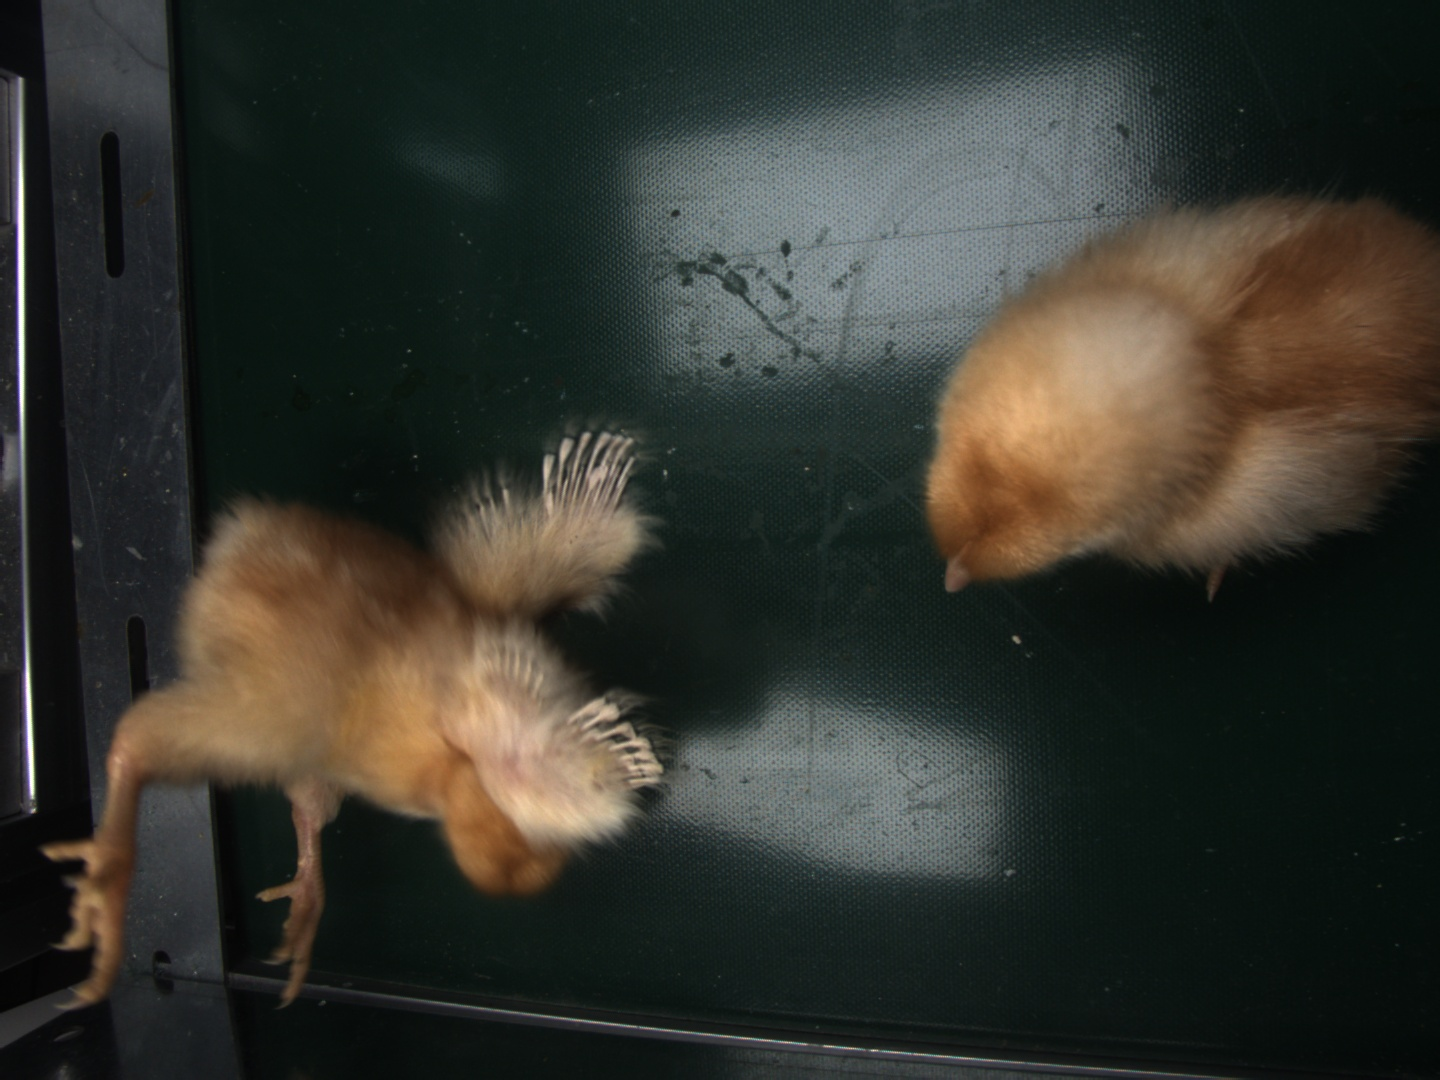female: (544, 431, 642, 511)
